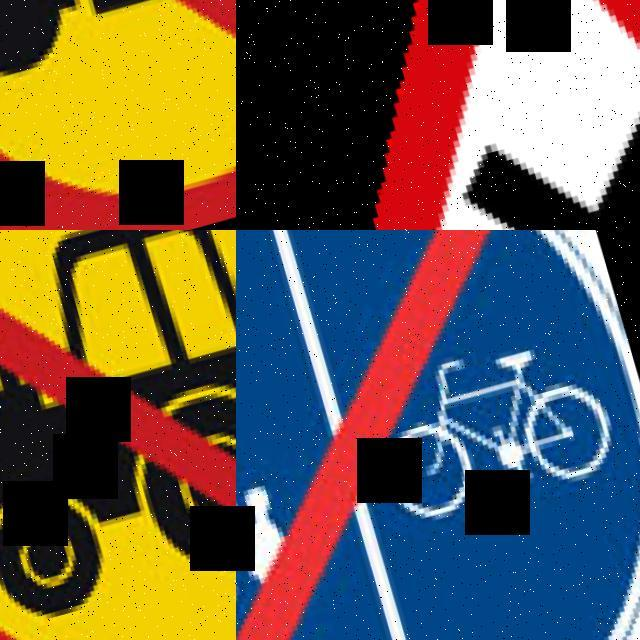48: (0, 230, 236, 640)
Y-junction: (236, 0, 640, 230)
no entry for bicycles and humans: (236, 230, 640, 640)
no motorcycles: (0, 0, 236, 230)
